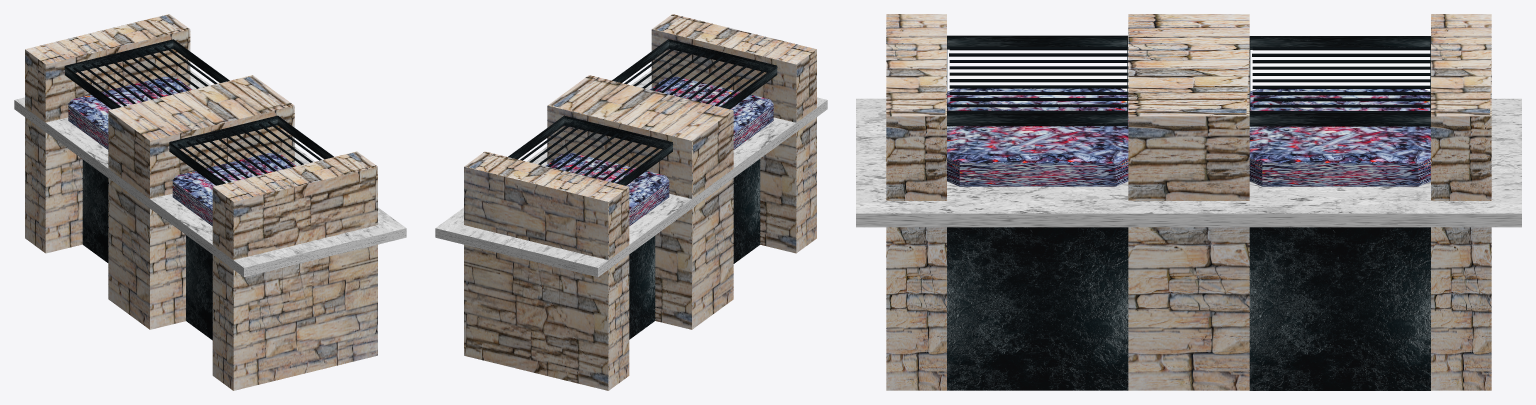
Rendered from parrilla_doble.glb.
3 views of the same model, side by side, from view 1: azimuth 30°, elevation 25°; view 2: azimuth 150°, elevation 25°; view 3: azimuth 270°, elevation 25° (orthographic). The views are drawn at different scales.
Parts seen in each view (by area): view 1: Cube, Cube.002, Cube.001, Cubo, Cubo.002, Cubo.001, Cubo.003, Cubo.004, Cube.003, Cube.004, Cube_002, Cube_003.001 (+2 smaller); view 2: Cube.001, Cube.002, Cube, Cubo, Cubo.001, Cubo.002, Cubo.003, Cubo.004, Cube_001, Cube_001.001, Cube_002.001, Cube_003 (+2 smaller); view 3: Cube.002, Cubo, Cubo.003, Cubo.004, Cube, Cube.001, Cubo.001, Cubo.002, Cube_003, Cube_003.001, Cube_002.001, Cube_002 (+16 smaller).
Part boxes in pixels (box(x1,y1,x2,y2)): Cube: box(212, 151, 377, 390); Cube.002: box(108, 75, 294, 329); Cube.001: box(25, 14, 190, 253); Cubo: box(14, 70, 406, 277); Cubo.002: box(68, 76, 192, 149); Cubo.001: box(172, 153, 296, 225); Cubo.003: box(186, 235, 212, 340); Cubo.004: box(82, 159, 108, 262); Cube.003: box(65, 39, 173, 72); Cube.004: box(170, 115, 277, 148); Cube_002: box(64, 66, 120, 109); Cube_003.001: box(277, 116, 333, 159); Cube.001: box(464, 151, 629, 390); Cube.002: box(547, 75, 733, 329); Cube: box(651, 14, 816, 253); Cubo: box(435, 70, 827, 277); Cubo.001: box(649, 76, 773, 149); Cubo.002: box(545, 153, 669, 225); Cubo.003: box(733, 159, 760, 263); Cubo.004: box(629, 236, 655, 339); Cube_001: box(564, 115, 672, 149); Cube_001.001: box(669, 39, 776, 72); Cube_002.001: box(720, 65, 777, 109); Cube_003: box(508, 116, 564, 159); Cube.002: box(1128, 14, 1249, 390); Cubo: box(856, 98, 1521, 227); Cubo.003: box(947, 227, 1128, 390); Cubo.004: box(1249, 227, 1430, 390); Cube: box(886, 14, 946, 390); Cube.001: box(1431, 14, 1491, 390); Cubo.001: box(947, 88, 1128, 186); Cubo.002: box(1249, 89, 1430, 186); Cube_003: box(1249, 112, 1430, 126); Cube_003.001: box(947, 112, 1127, 126); Cube_002.001: box(947, 35, 1127, 49); Cube_002: box(1250, 36, 1430, 49).
Size of the model in its own units: 4.5 by 5 by 11.
6 materials, 6 textured.
